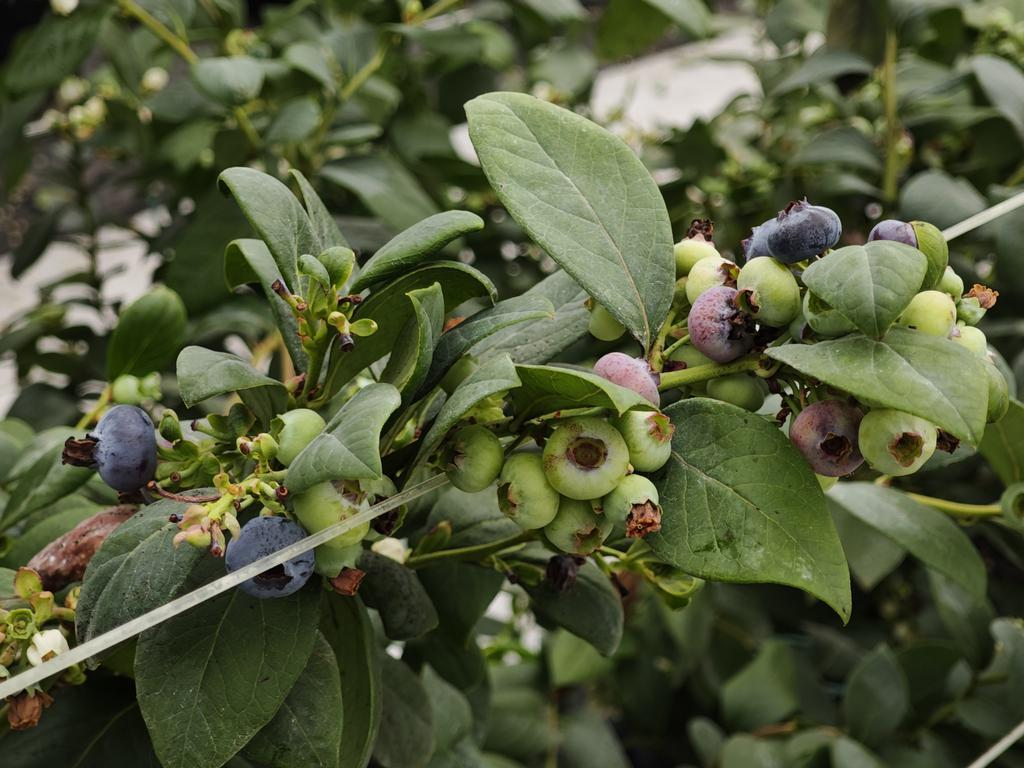RipeBlueBerry: (219, 514, 314, 602), (89, 401, 160, 493), (761, 197, 844, 262)
Semi-RipeBlueBerry: (788, 398, 869, 481), (685, 283, 757, 364)
UnripeBlueBerry: (542, 416, 631, 501), (858, 401, 940, 479), (733, 254, 803, 330)
